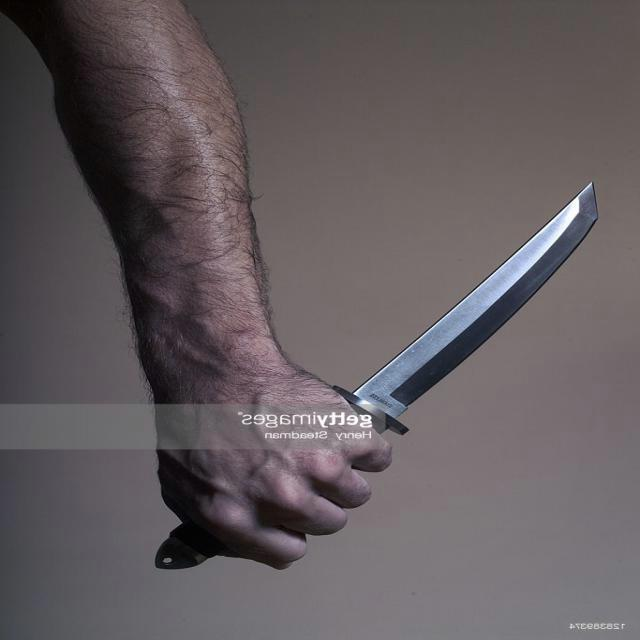Knife: (345, 182, 598, 432)
Knife_Handle: (139, 180, 634, 601)
